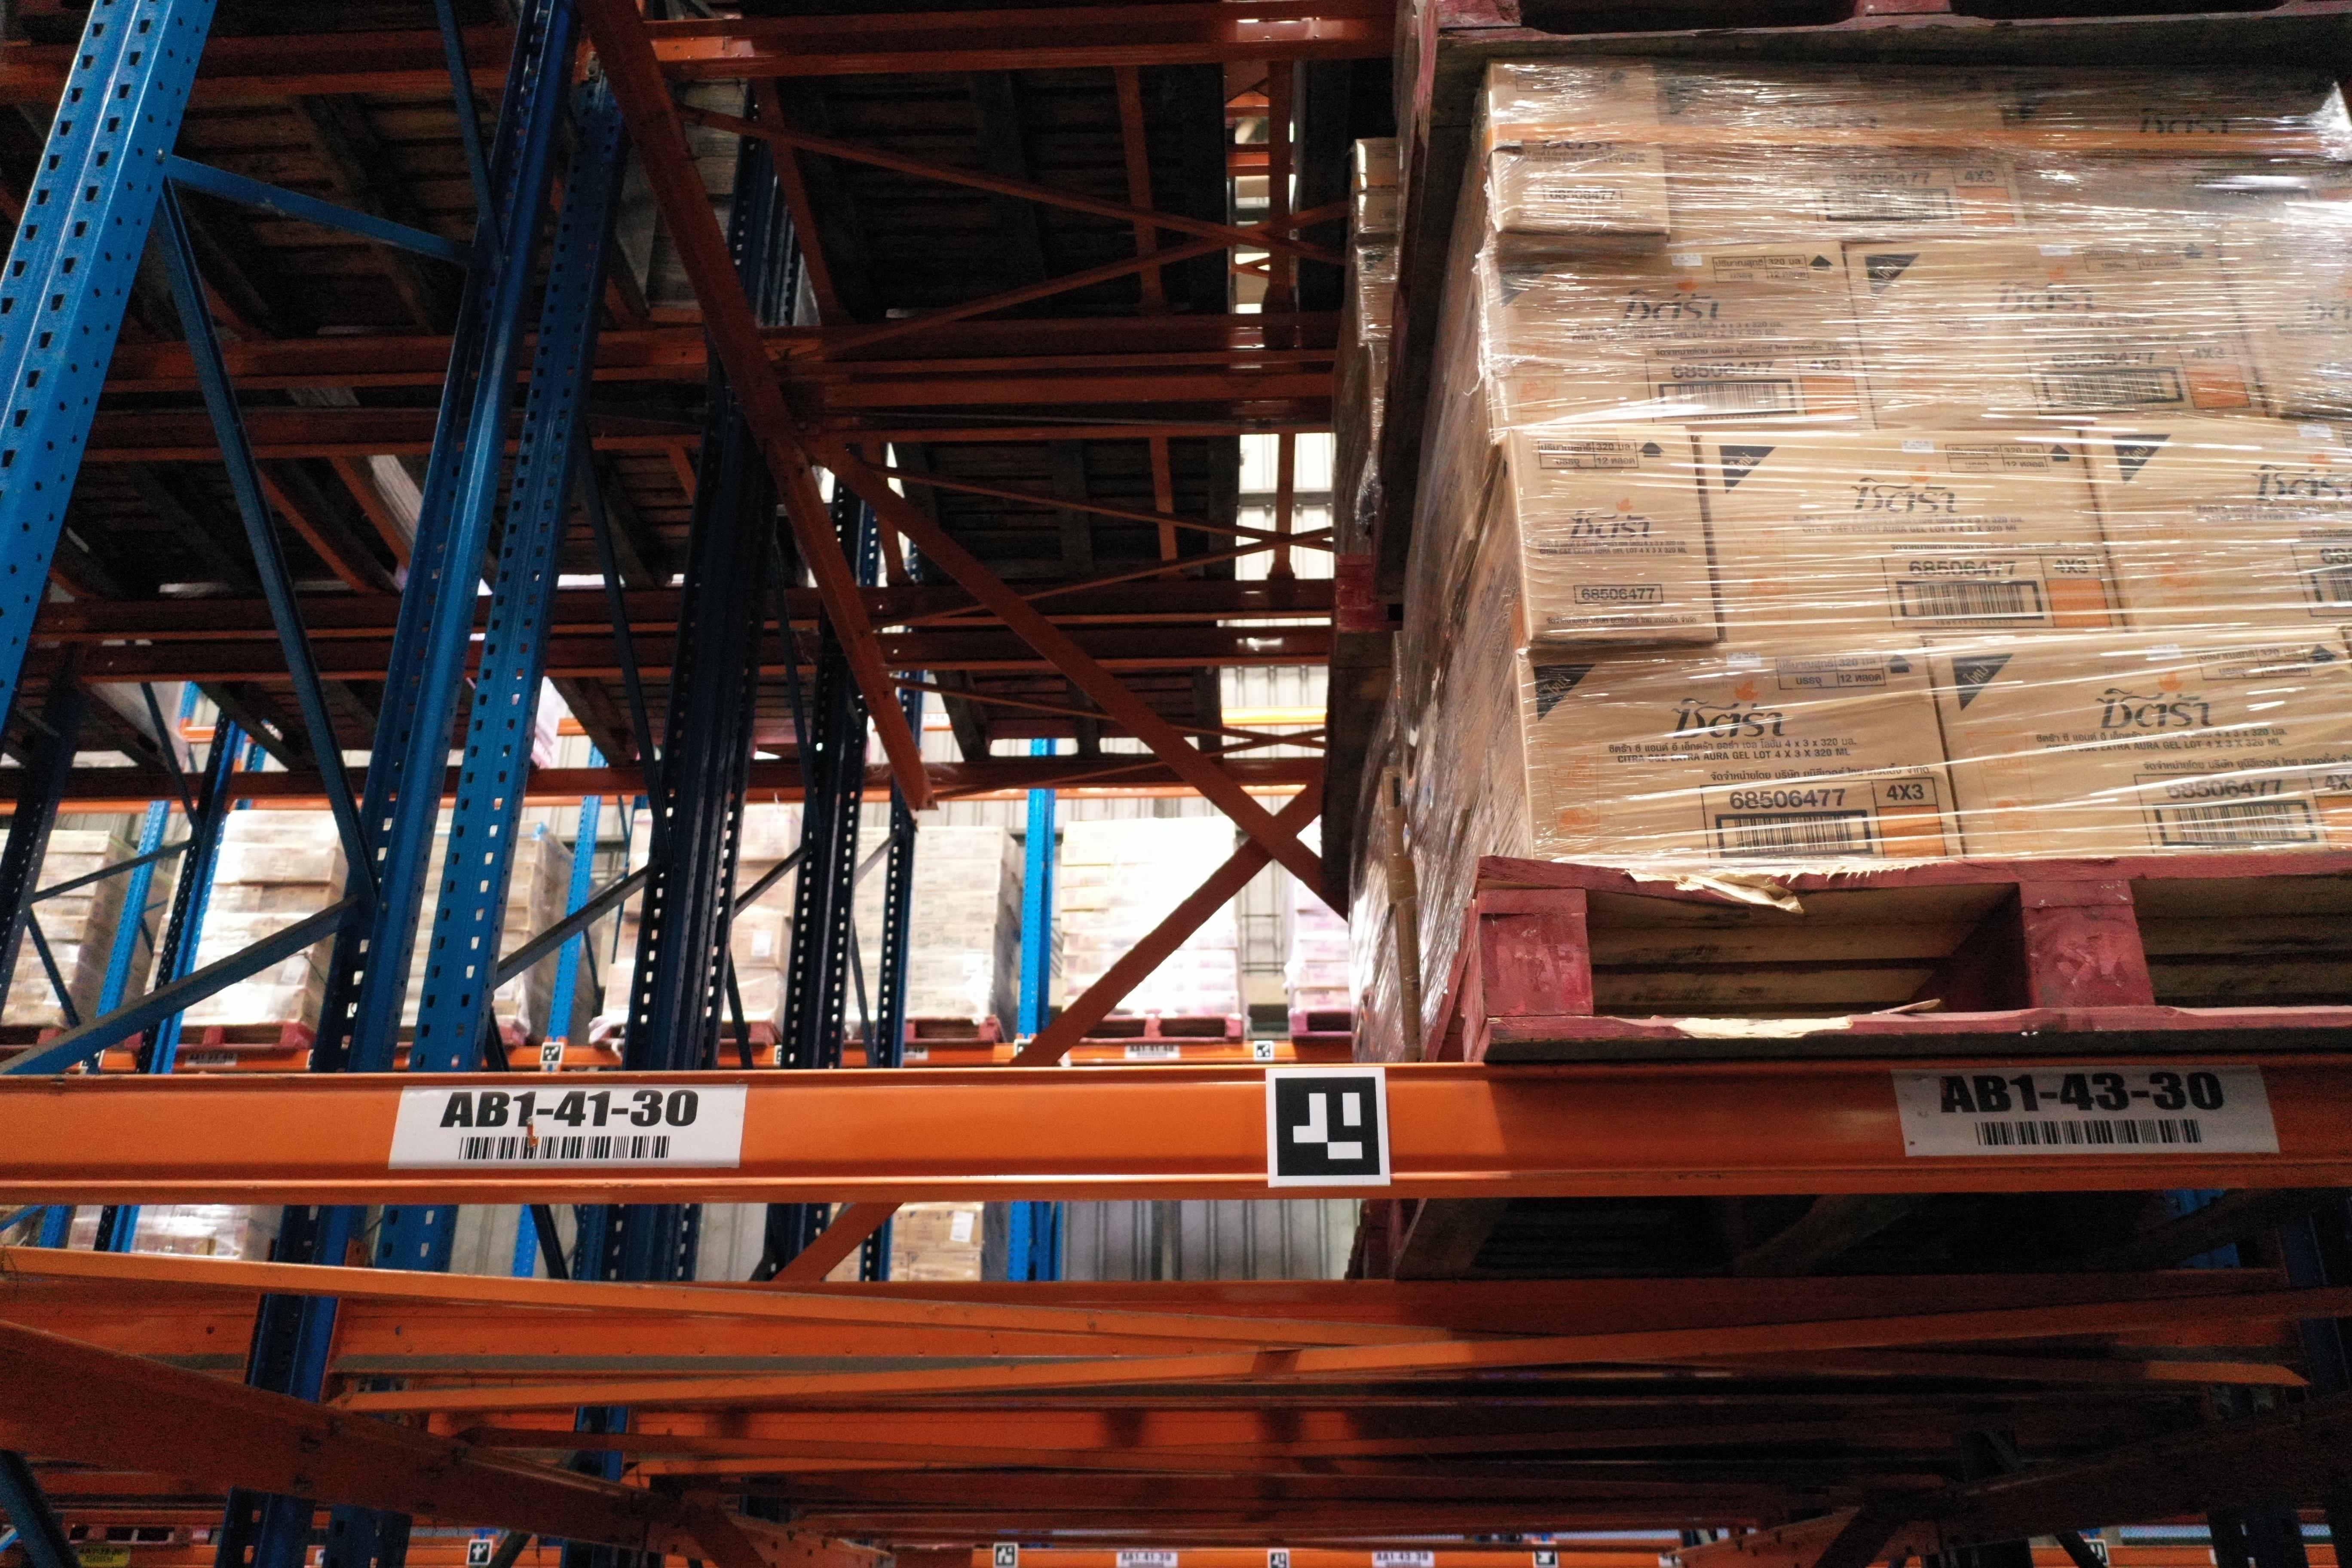-: (1510, 640, 1963, 859), (1925, 628, 2352, 859), (1690, 427, 2130, 644), (1839, 233, 2270, 425), (1479, 245, 1876, 439), (1655, 58, 2026, 245), (1991, 65, 2352, 236), (2075, 416, 2352, 637), (1508, 430, 1718, 651), (1487, 58, 1671, 234), (2212, 226, 2352, 416)
